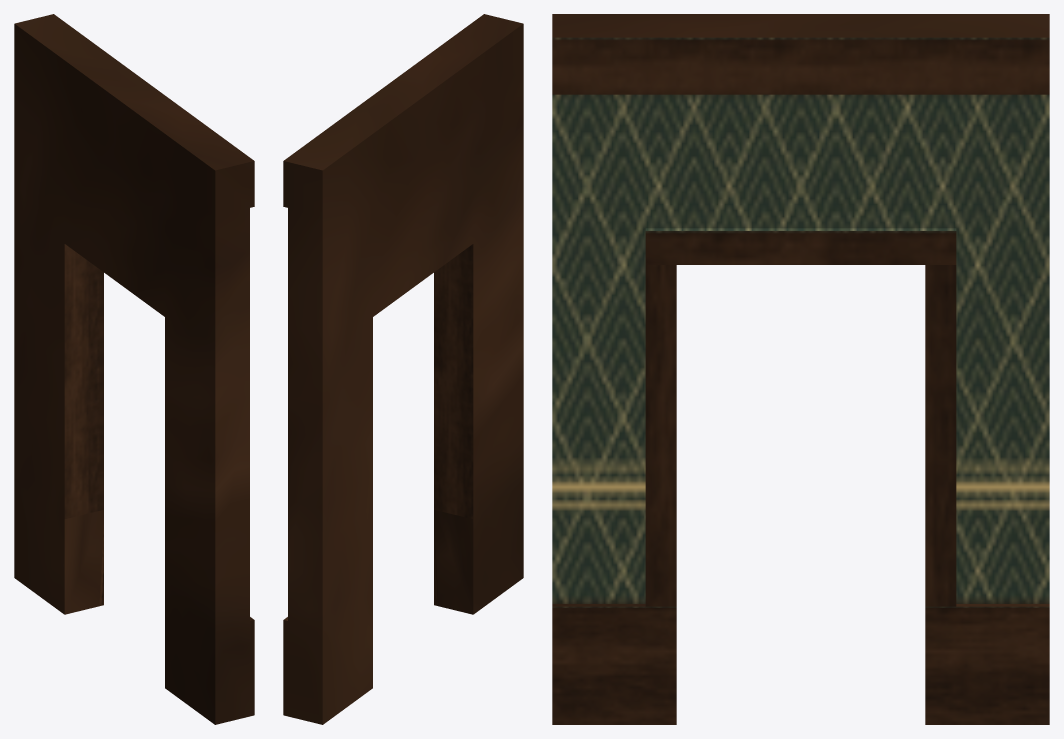
Rendered from Door.glb.
The picture shows the model from 3 angles, left to right: view 1: azimuth 30°, elevation 25°; view 2: azimuth 150°, elevation 25°; view 3: azimuth 270°, elevation 25°; orthographic projection. The views are drawn at different scales.
Parts seen in each view (by area): view 1: Wall.002; view 2: Wall.002; view 3: Wall.002.
Part boxes in pixels (x1,y1,x2,y2): Wall.002: (14,14,254,724); Wall.002: (283,14,523,724); Wall.002: (552,14,1049,724).
Bounding box in the file's own units: 0.2264 × 3.05 × 2.
Materials: 1 (1 with a texture image).
